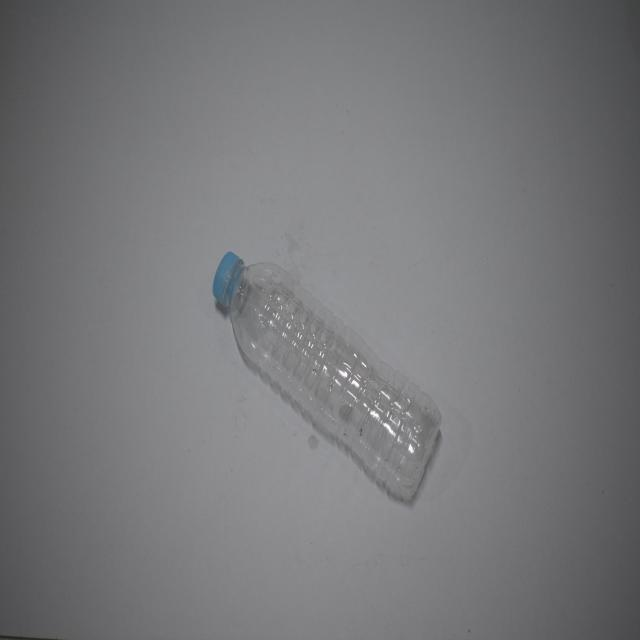bottle: (197, 230, 458, 528)
